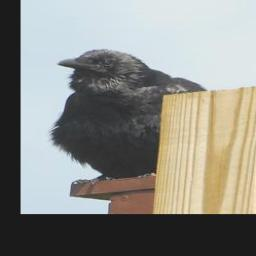Crow: (45, 48, 205, 184)
